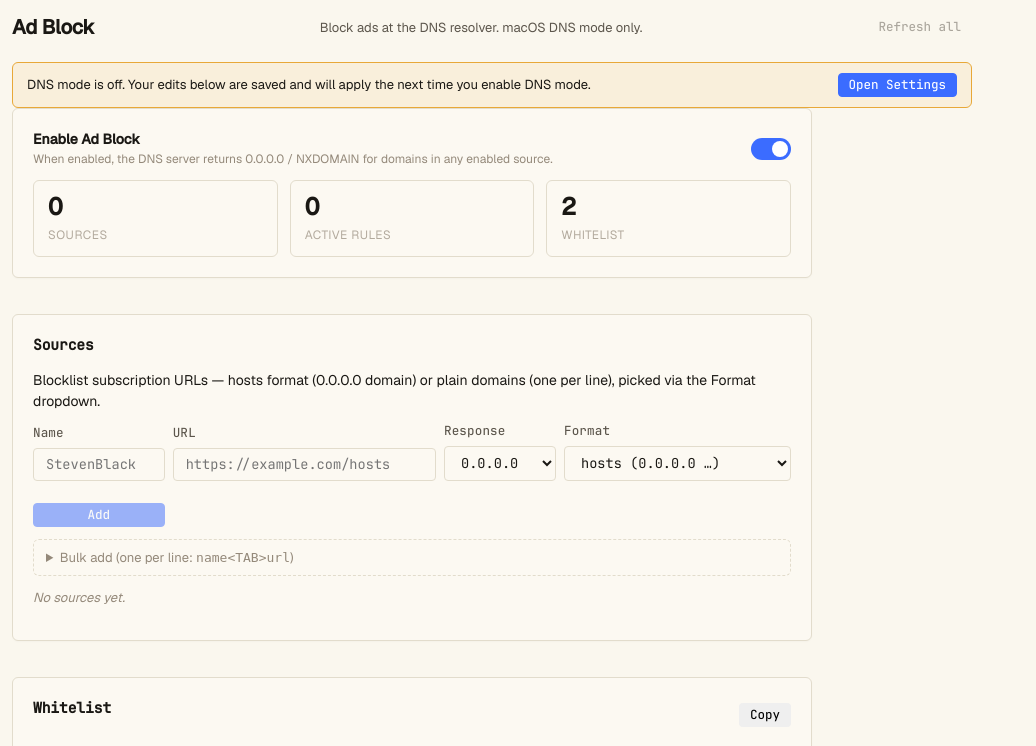
Scenario: AdBlock › surfaces a toast when the clipboard write fails
The width and height of the screenshot is (1036, 746).
Click the button with aria-label "Copy whitelist to clipboard" at (765, 715), box [739,703,791,727]
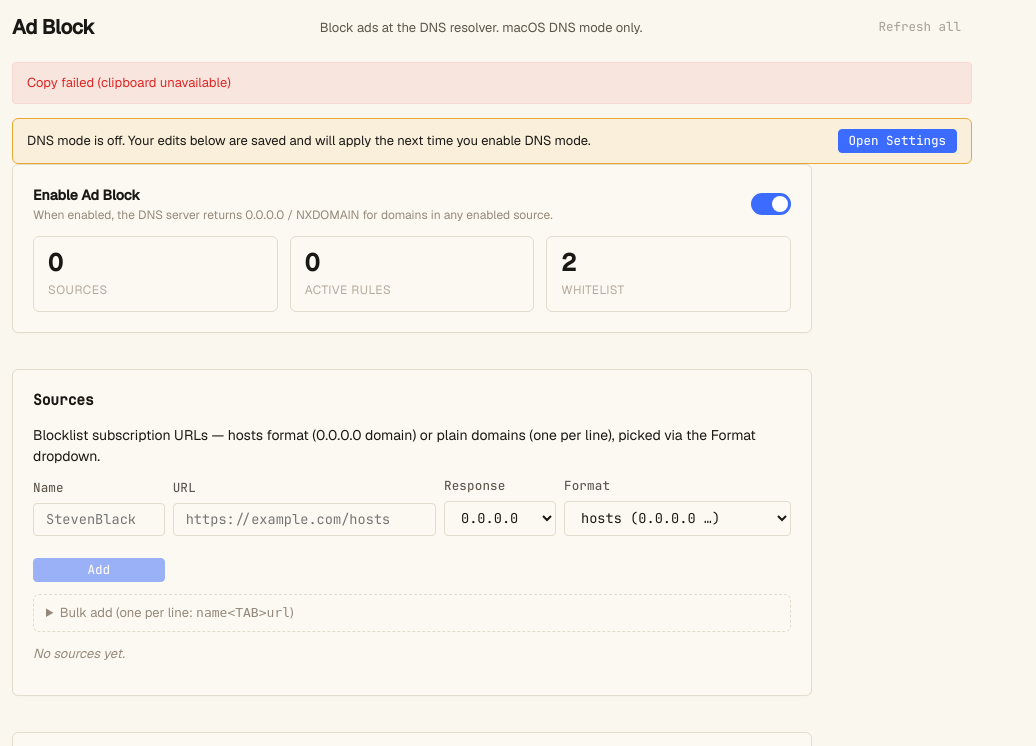
Check: the text "Copy failed (clipboard unavailable)" is shown, box [12,62,972,104]
